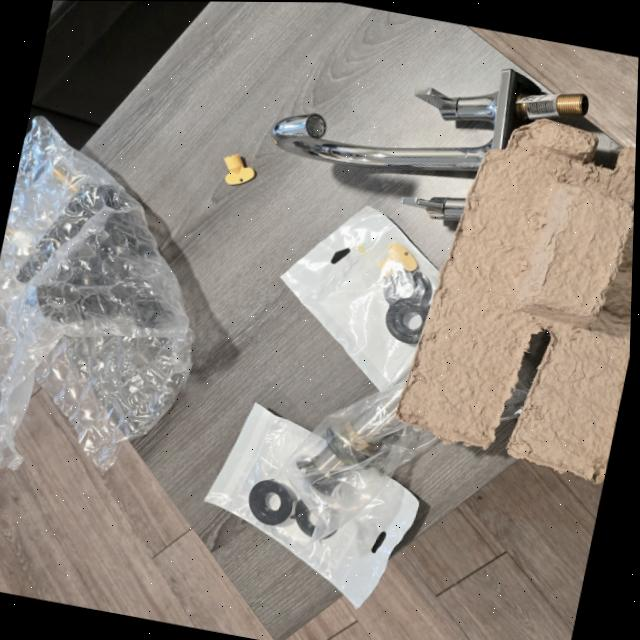10o: (270, 68, 587, 175), (400, 193, 465, 219)
11o: (285, 379, 436, 539)
12o: (279, 205, 437, 388)
13o: (204, 402, 417, 606)
14: (223, 153, 256, 184)
9c: (0, 116, 192, 468)
